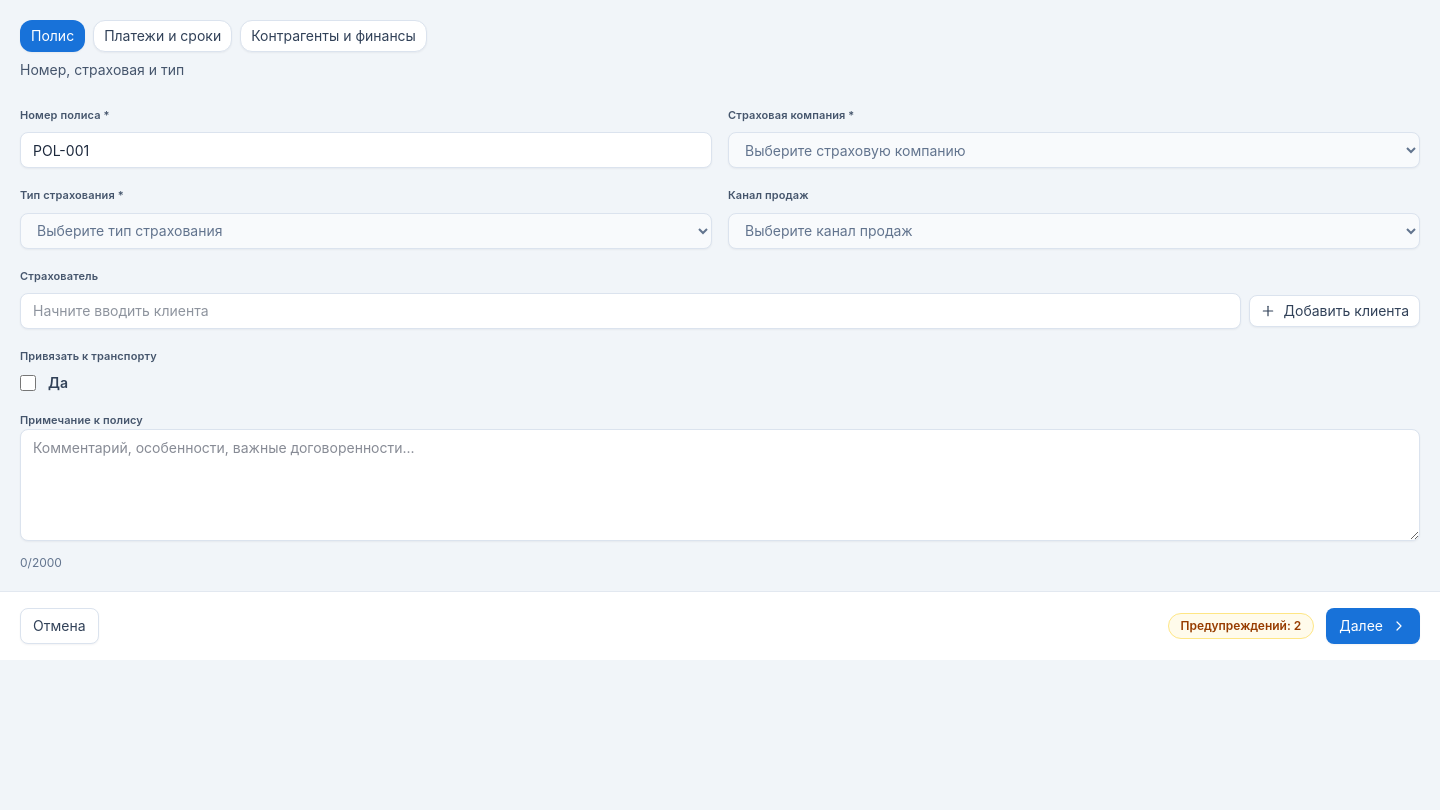
it: AddPolicyForm › keeps the same expanded payment when switching from payments to finance step
Click the button "Платежи и сроки" at (163, 36), box top-left (93, 20), bottom-right (232, 52)
(page scrolled)
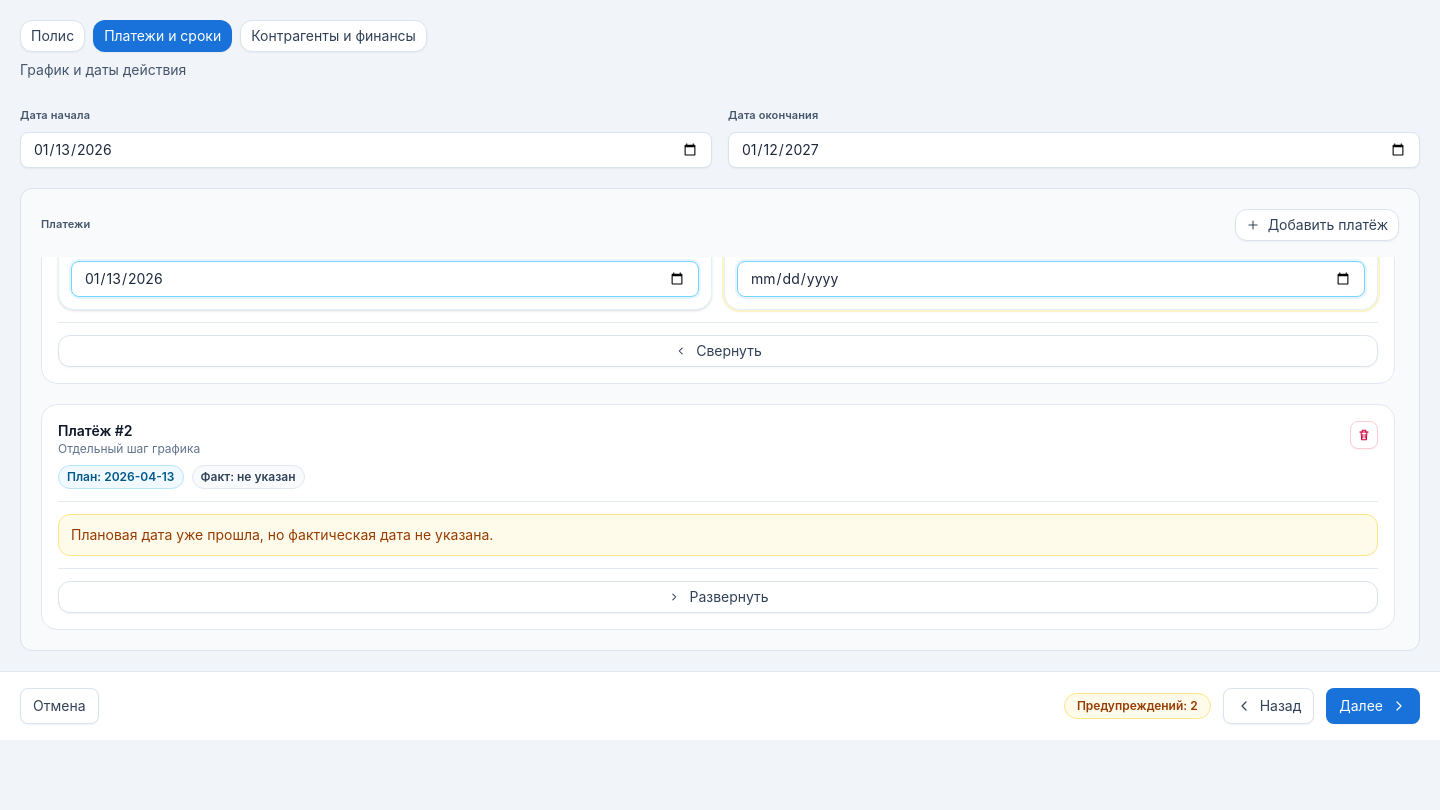
Click the button "Развернуть" at (718, 597), box top-left (58, 581), bottom-right (1378, 613)
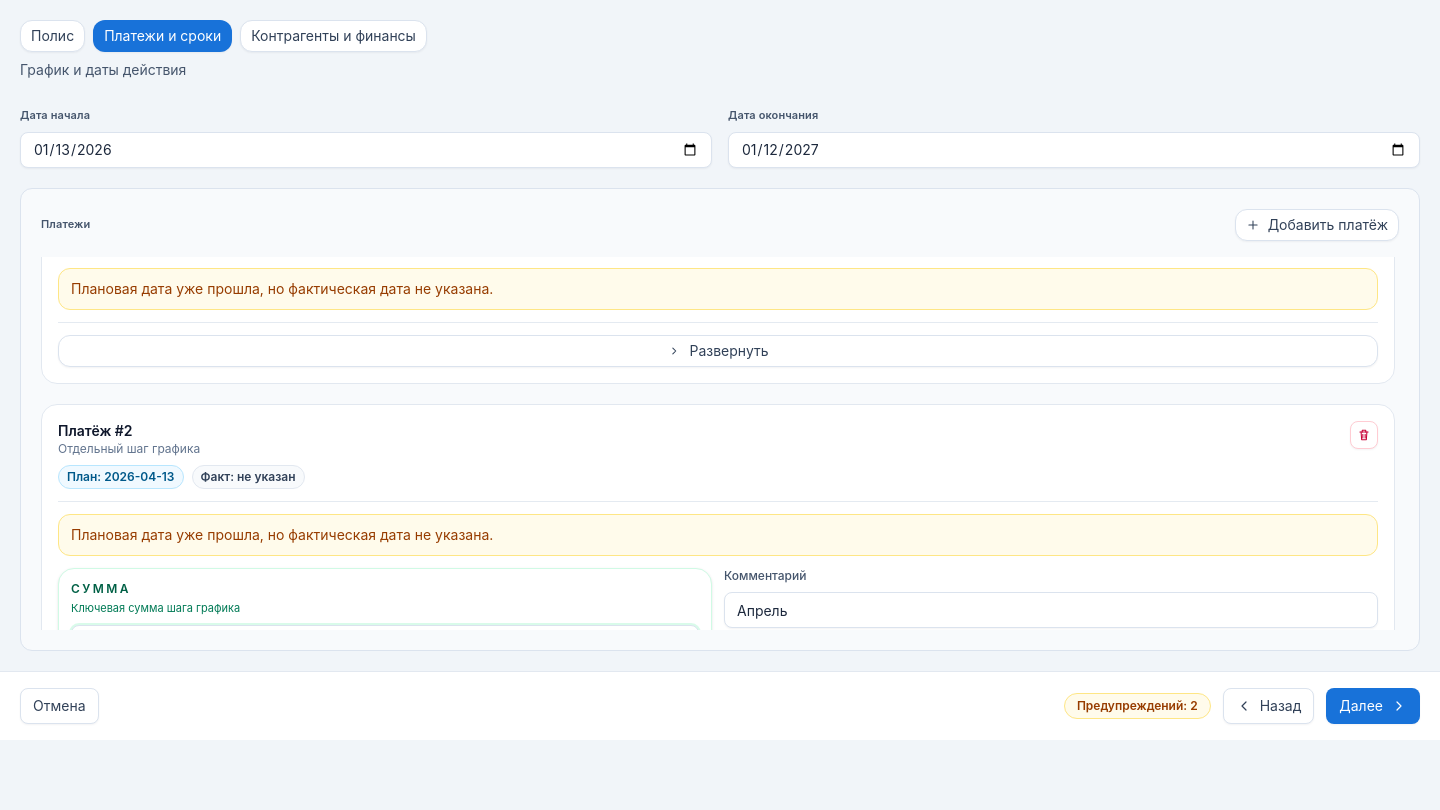
Click the button "Контрагенты и финансы" at (334, 36), box top-left (240, 20), bottom-right (427, 52)
(page scrolled)
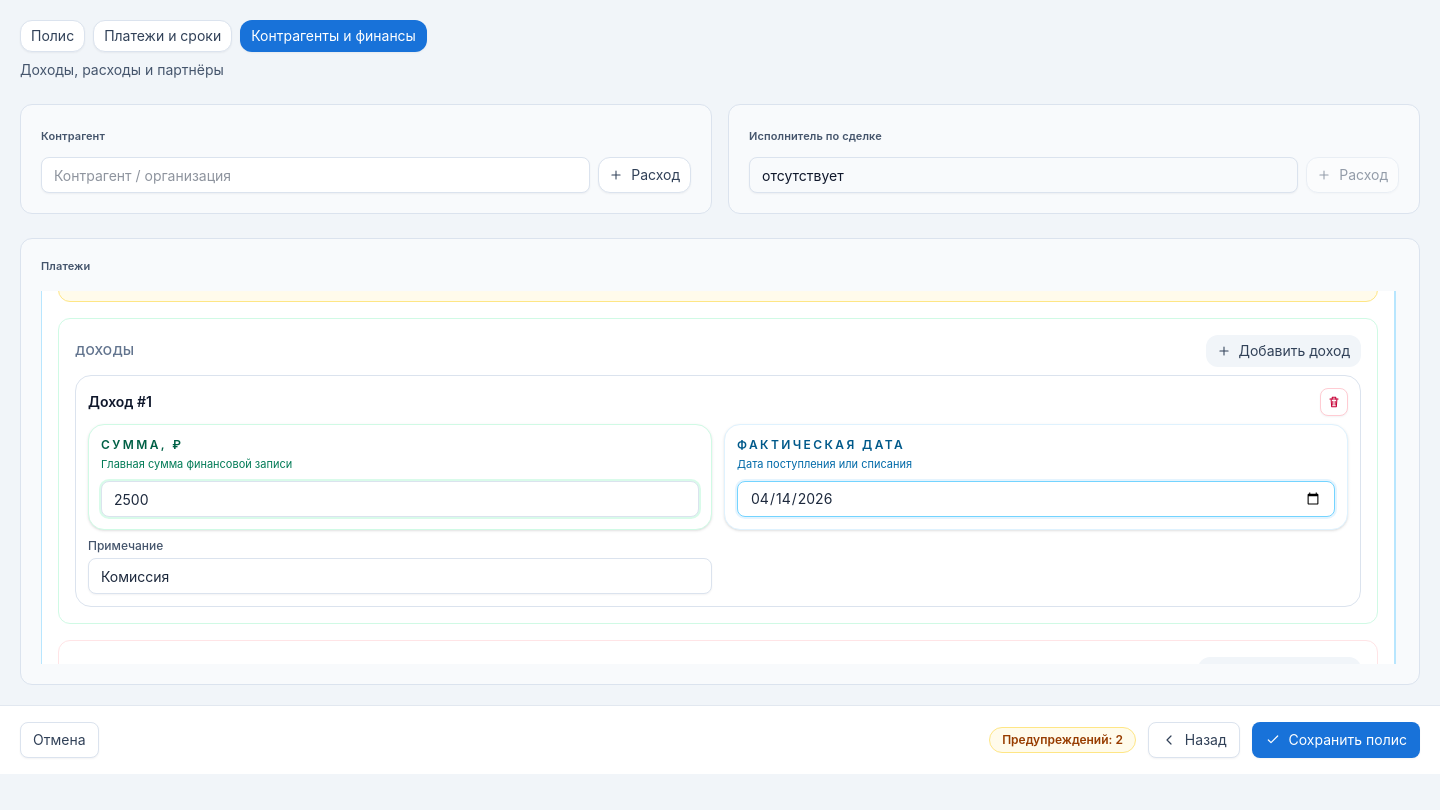
expect the element with test id "incomes-record-amount-accent" is shown: met, box top-left (88, 424), bottom-right (712, 530)
